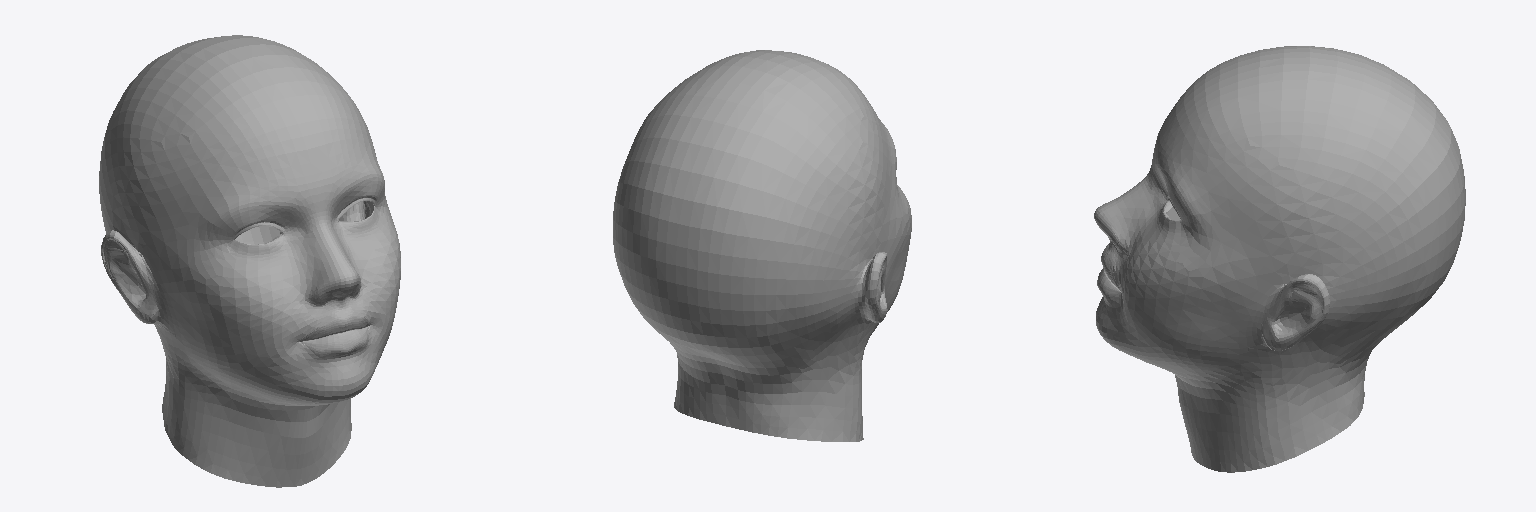
3 views of the same model, side by side, from view 1: azimuth 30°, elevation 25°; view 2: azimuth 150°, elevation 25°; view 3: azimuth 270°, elevation 25° (orthographic).
Parts seen in each view (by area): view 1: skin_hi; view 2: skin_hi; view 3: skin_hi.
Part boxes in pixels (x1,y1,x2,y2): skin_hi: (99, 35, 400, 487); skin_hi: (613, 50, 911, 441); skin_hi: (1094, 46, 1465, 472).
Size of the model in its own units: 198 by 283 by 241.